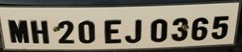character: (7, 18, 30, 44), (28, 19, 51, 45), (55, 19, 75, 45), (102, 18, 122, 44), (123, 18, 143, 44), (149, 17, 168, 43), (170, 16, 189, 42), (190, 16, 209, 41), (210, 15, 229, 40), (77, 19, 96, 43)
